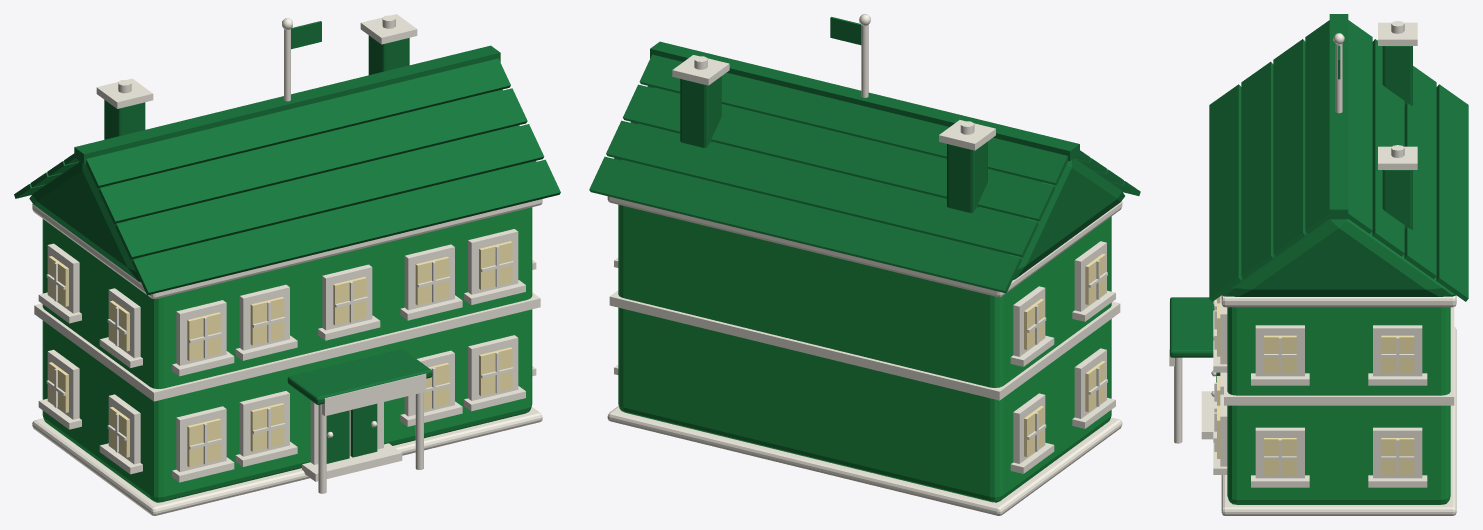
File: buildings.glb
The picture shows the model from 3 angles, left to right: view 1: azimuth 30°, elevation 25°; view 2: azimuth 150°, elevation 25°; view 3: azimuth 270°, elevation 25°; orthographic projection. The views are drawn at different scales.
Parts seen in each view (by area): view 1: Hotel; view 2: Hotel; view 3: Hotel.
Boxes of the visible parts, left/top/right/bottom form: Hotel: left=14, top=14, right=560, bottom=515; Hotel: left=589, top=14, right=1140, bottom=515; Hotel: left=1169, top=14, right=1468, bottom=515.
Size of the model in its own units: 0.394 by 0.368 by 0.2549.
